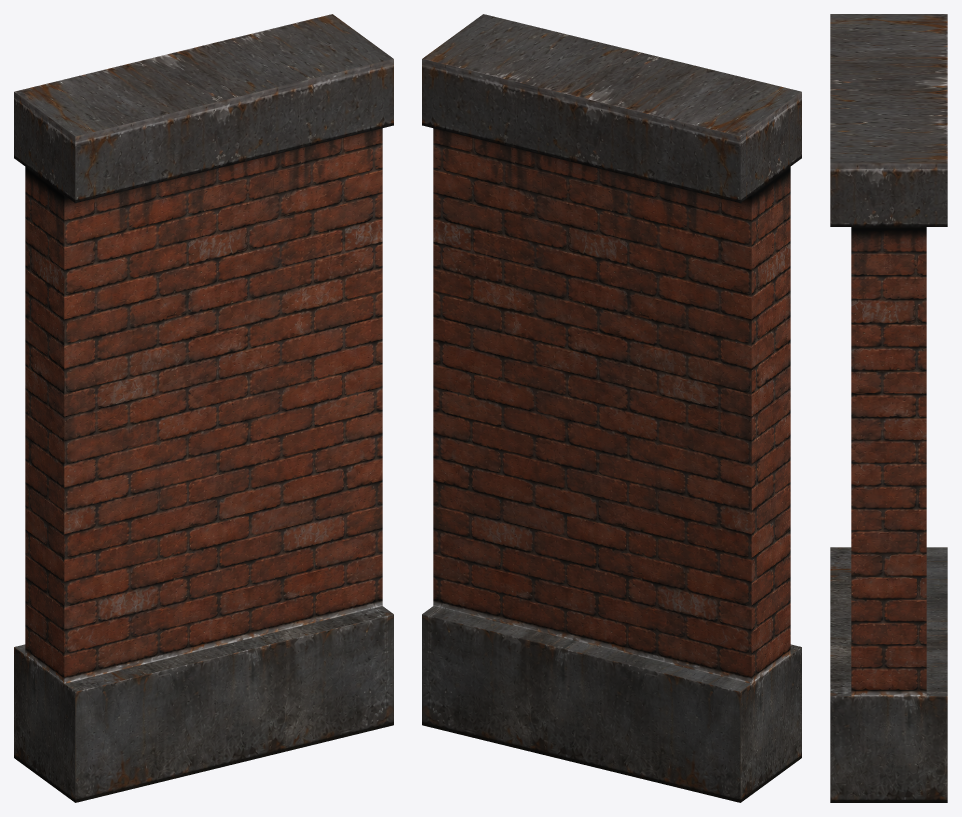
Rendered from wall_01.glb.
The picture shows the model from 3 angles, left to right: view 1: azimuth 30°, elevation 25°; view 2: azimuth 150°, elevation 25°; view 3: azimuth 270°, elevation 25°; orthographic projection. The views are drawn at different scales.
Parts seen in each view (by area): view 1: Wall 01 | 3 x 6 x 1 m; view 2: Wall 01 | 3 x 6 x 1 m; view 3: Wall 01 | 3 x 6 x 1 m.
Part boxes in pixels (<box>): Wall 01 | 3 x 6 x 1 m: <box>14,14,393,802</box>; Wall 01 | 3 x 6 x 1 m: <box>422,14,801,802</box>; Wall 01 | 3 x 6 x 1 m: <box>830,14,947,802</box>.
Bounding box in the file's own units: 3 × 6 × 1.
1 material, 1 textured.
